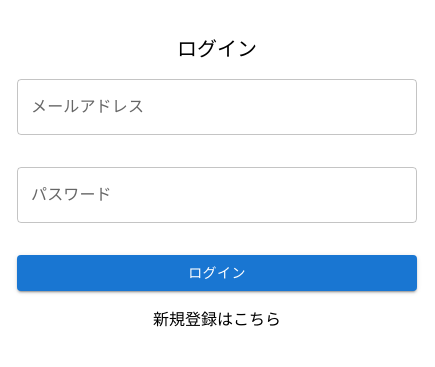
Test: Login Form Tests › displays an error message for invalid email format on submit
Type "test" into the field labelled "メールアドレス" at (217, 107), box x1=17 y1=79 x2=417 y2=135
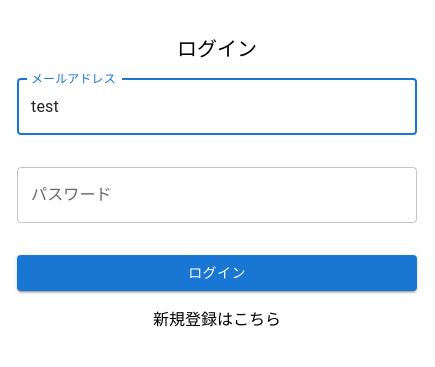
Click the submit button at (217, 274), box x1=17 y1=255 x2=417 y2=292
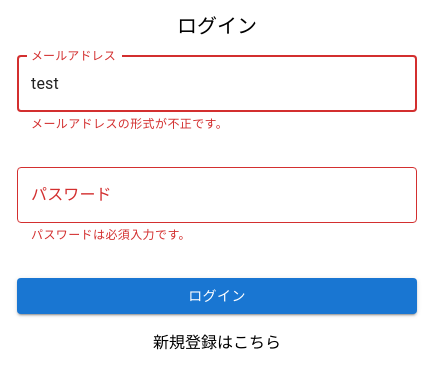
Expected: the text "メールアドレスの形式が不正です。" is shown, x1=31 y1=117 x2=228 y2=131
